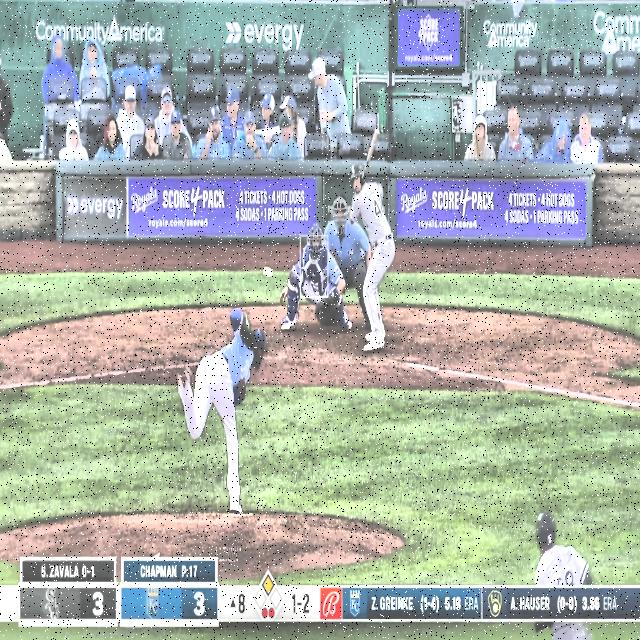baseball: (262, 264, 272, 278)
